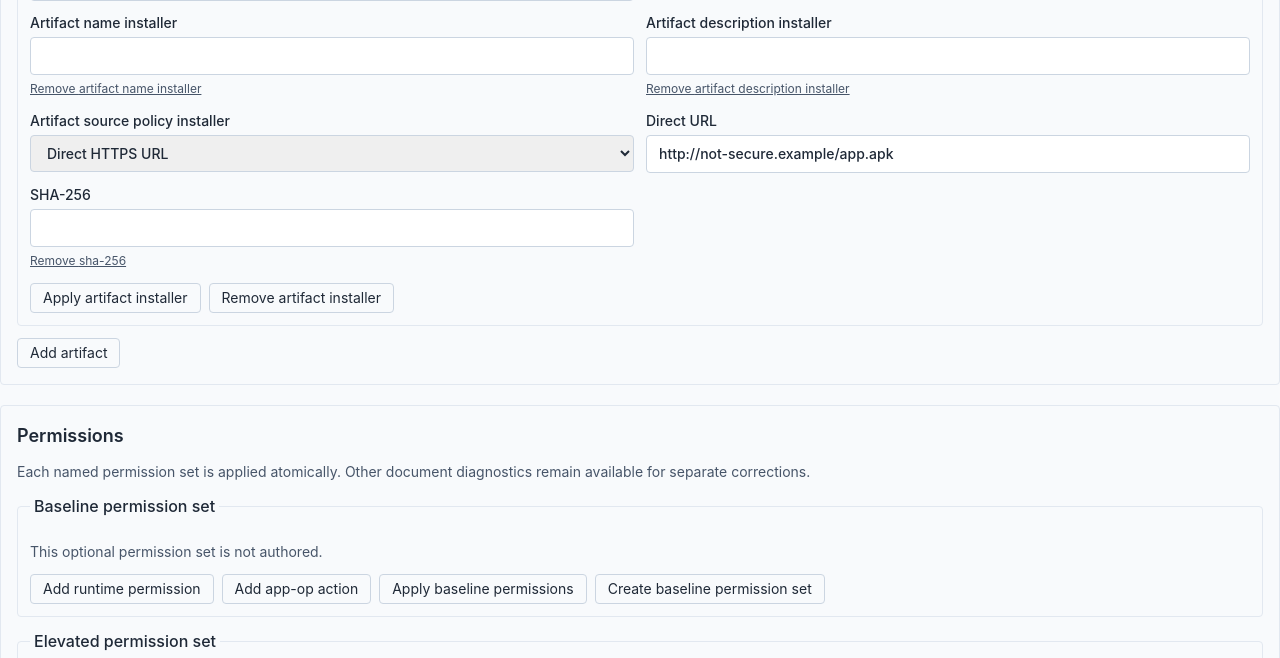
Test: AppDefinitionEditor › rejects invalid active source fields without changing the accepted artifact
(page scrolled)
Step 1. Click the button "Apply artifact installer" → coordinates (115, 298), box [30,283,200,313]
(page scrolled)
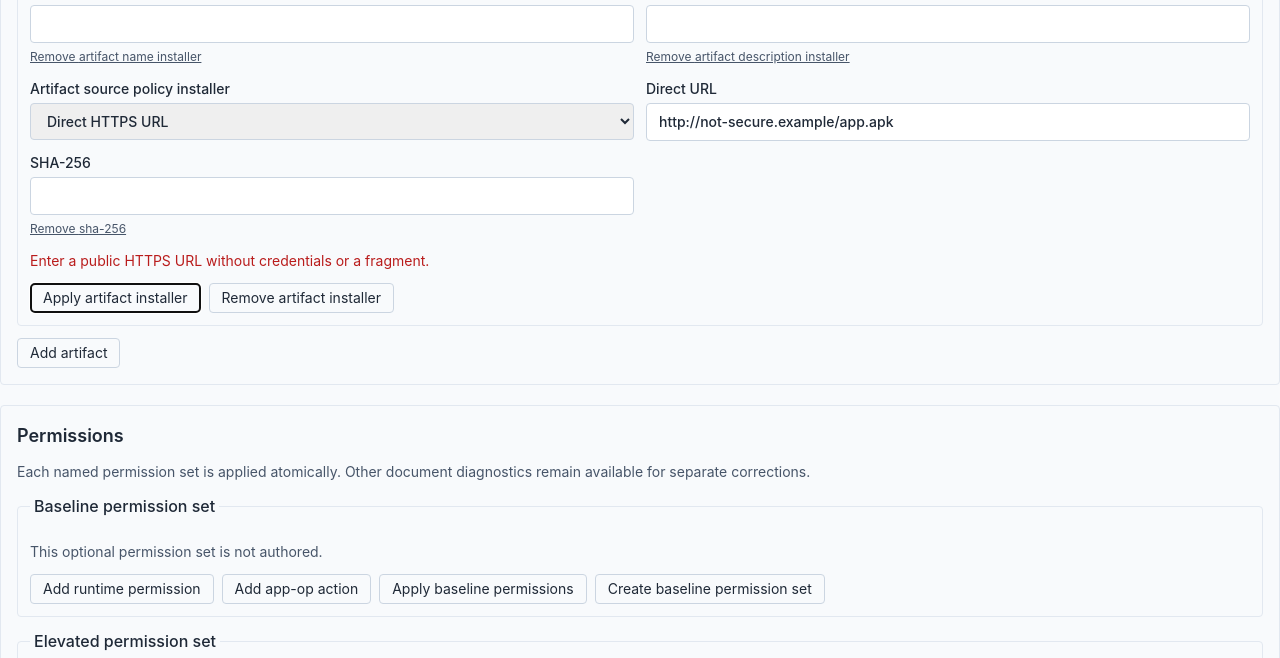
Check: the field labelled "Direct URL" holds "http://not-secure.example/app.apk", box [646,103,1250,141]
Check: the message shows "public HTTPS URL", box [30,252,429,269]
